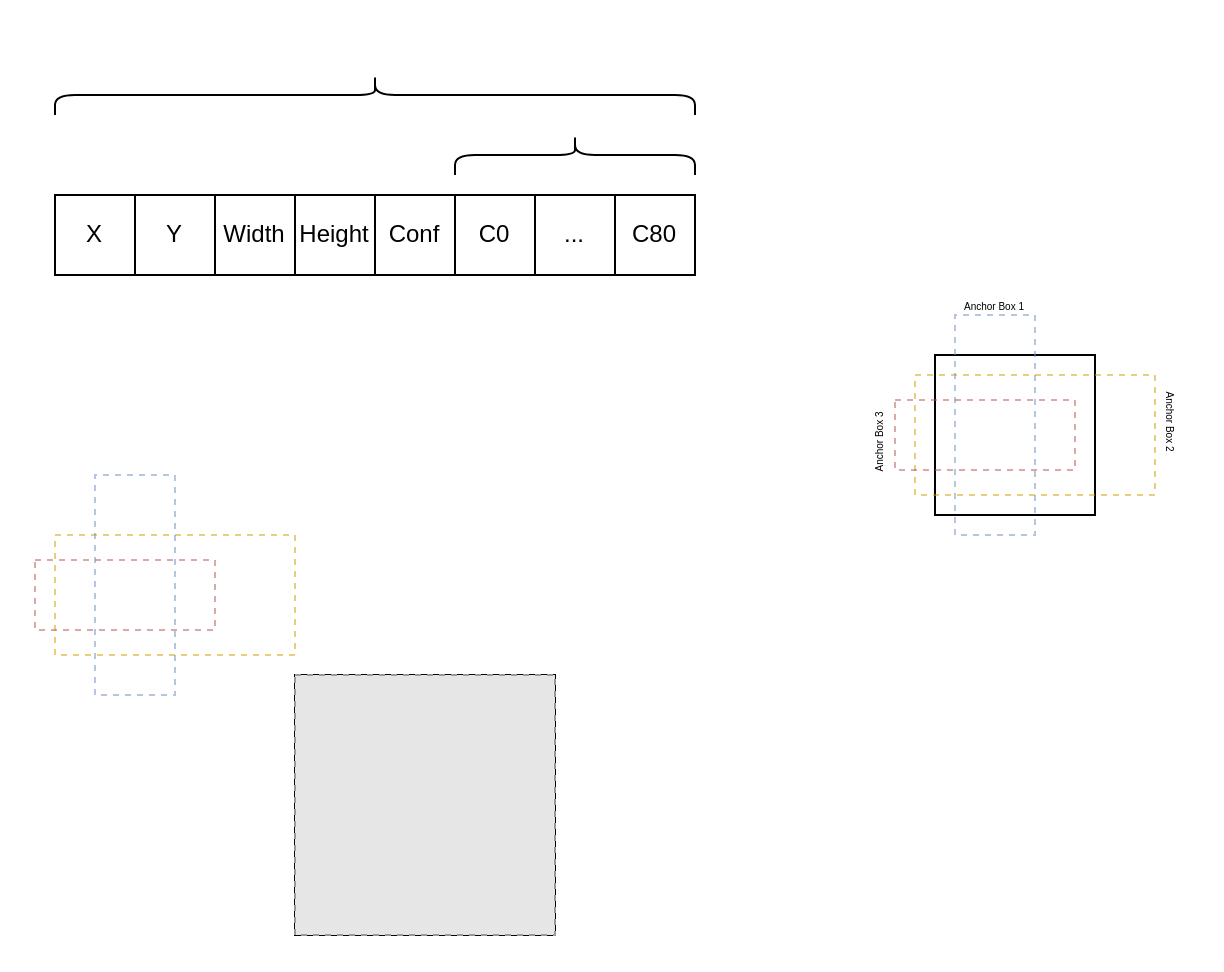
Some shapes in this 1224 by 972 pixel diagram are drawn without their labels. Grey dashed boxes stand in for pictures. Each missing label, with the centre of its shape:
"80 Classes" belongs at (x=574, y=154).
"85 Cells" belongs at (x=374, y=94).
